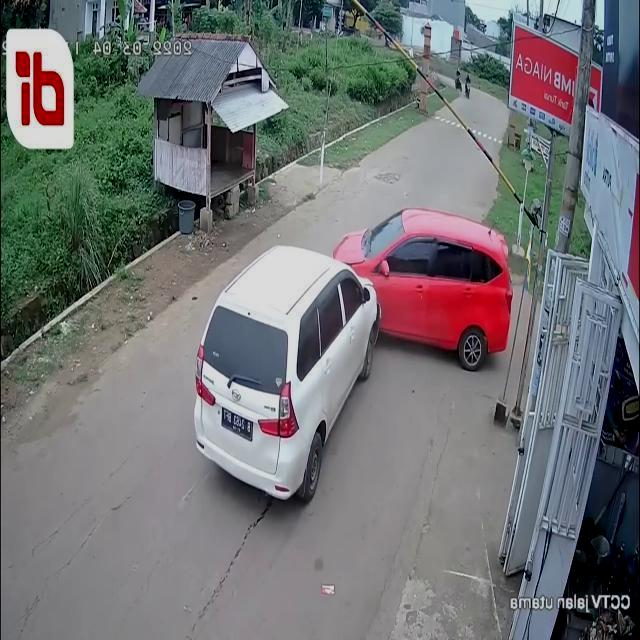accident: (190, 205, 514, 509)
